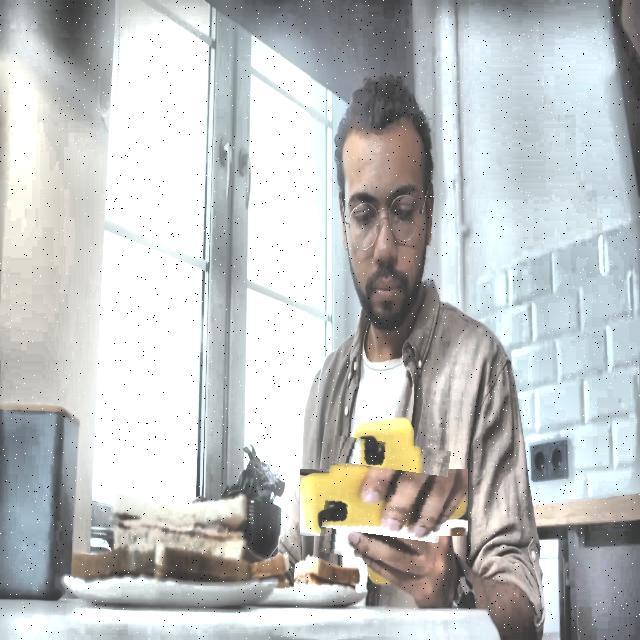Phone: (322, 439, 447, 565)
